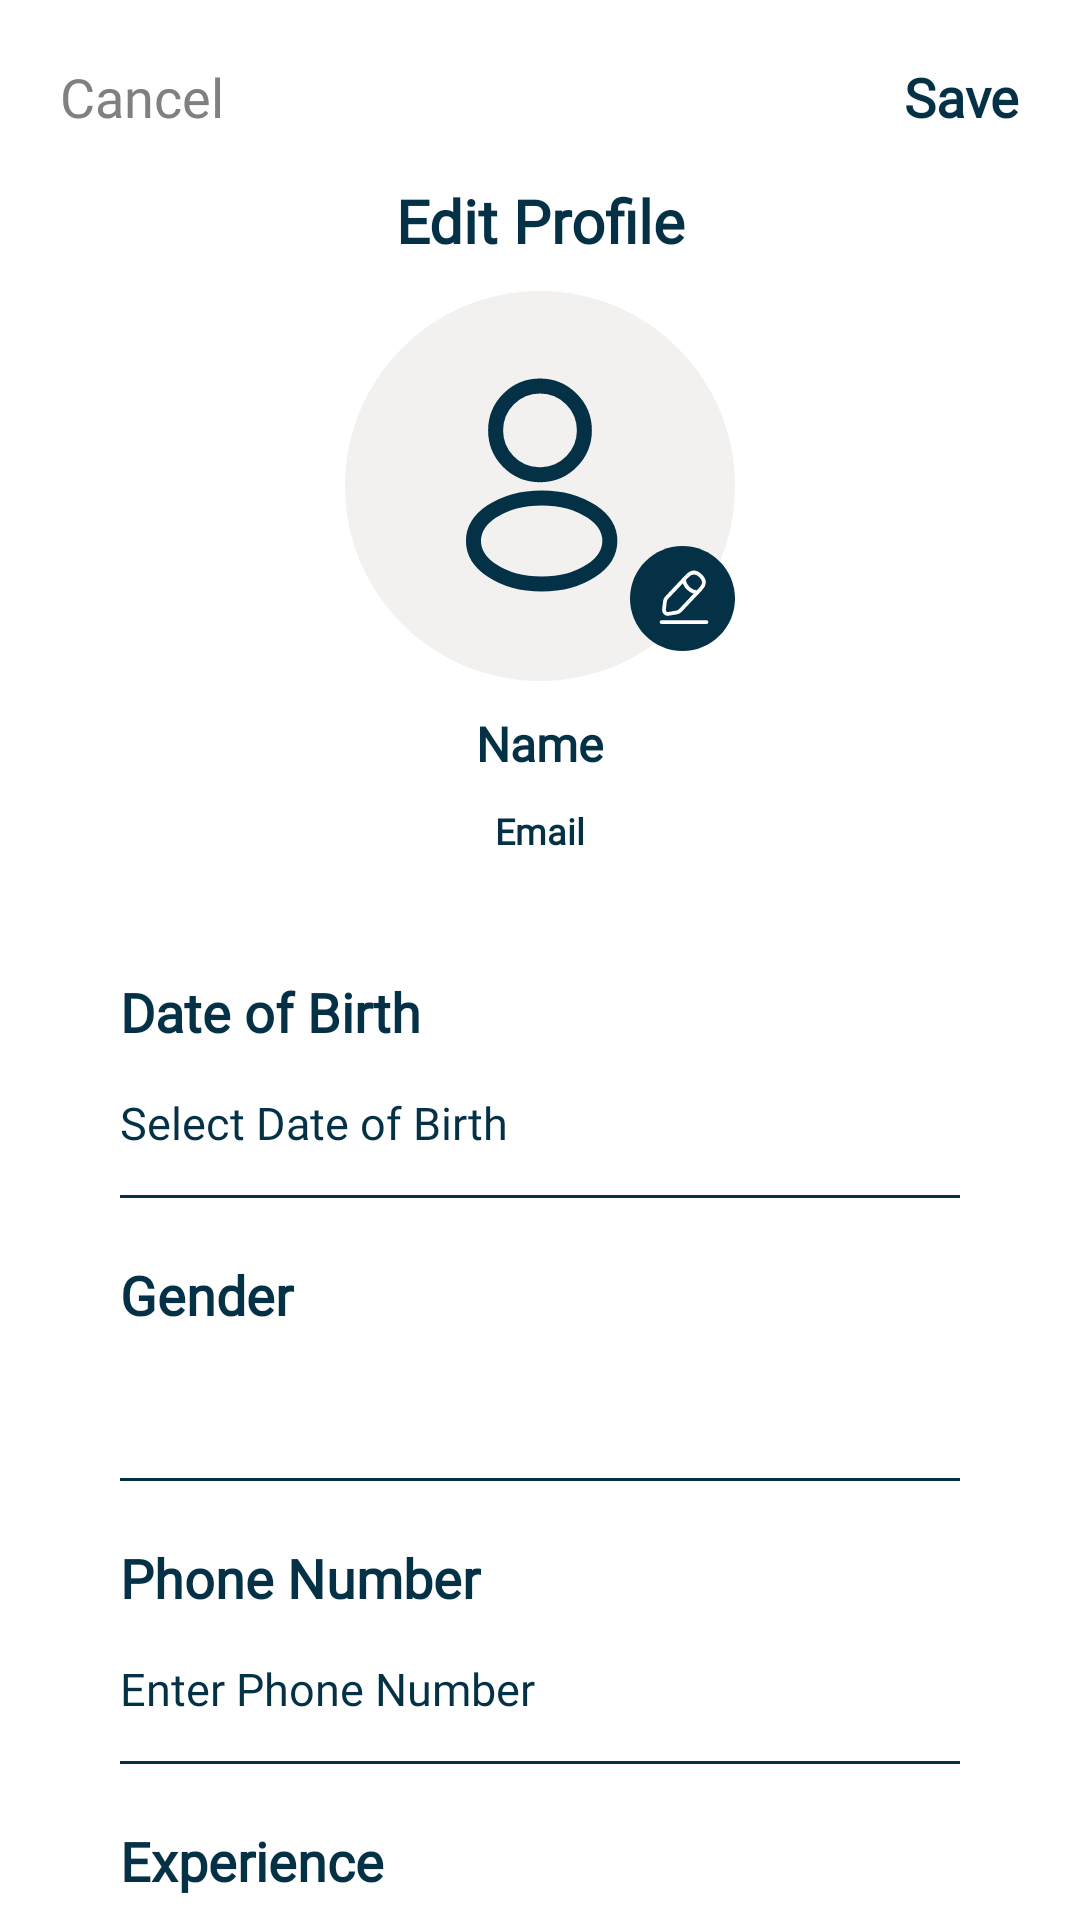

Icons on this 1080px×1920px Android screen, each with the point to tap as (x=x, y=y):
edit pencil: (x=684, y=597)
